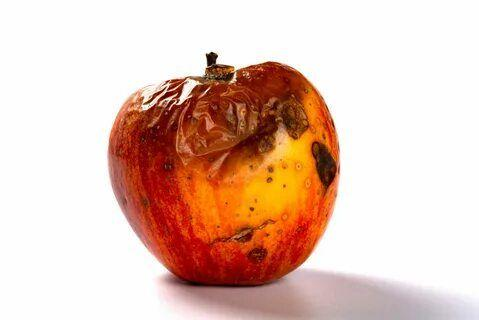Apple: (108, 63, 338, 285)
